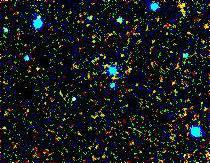star: (162, 0, 192, 19)
